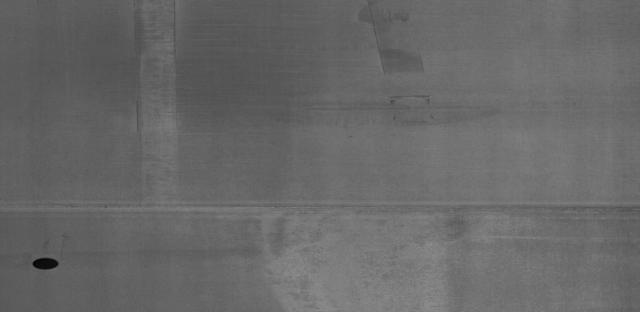punching_hole: (26, 253, 67, 273)
rolled_pit: (125, 1, 191, 192), (360, 1, 442, 127)
welding_line: (3, 194, 637, 219)
